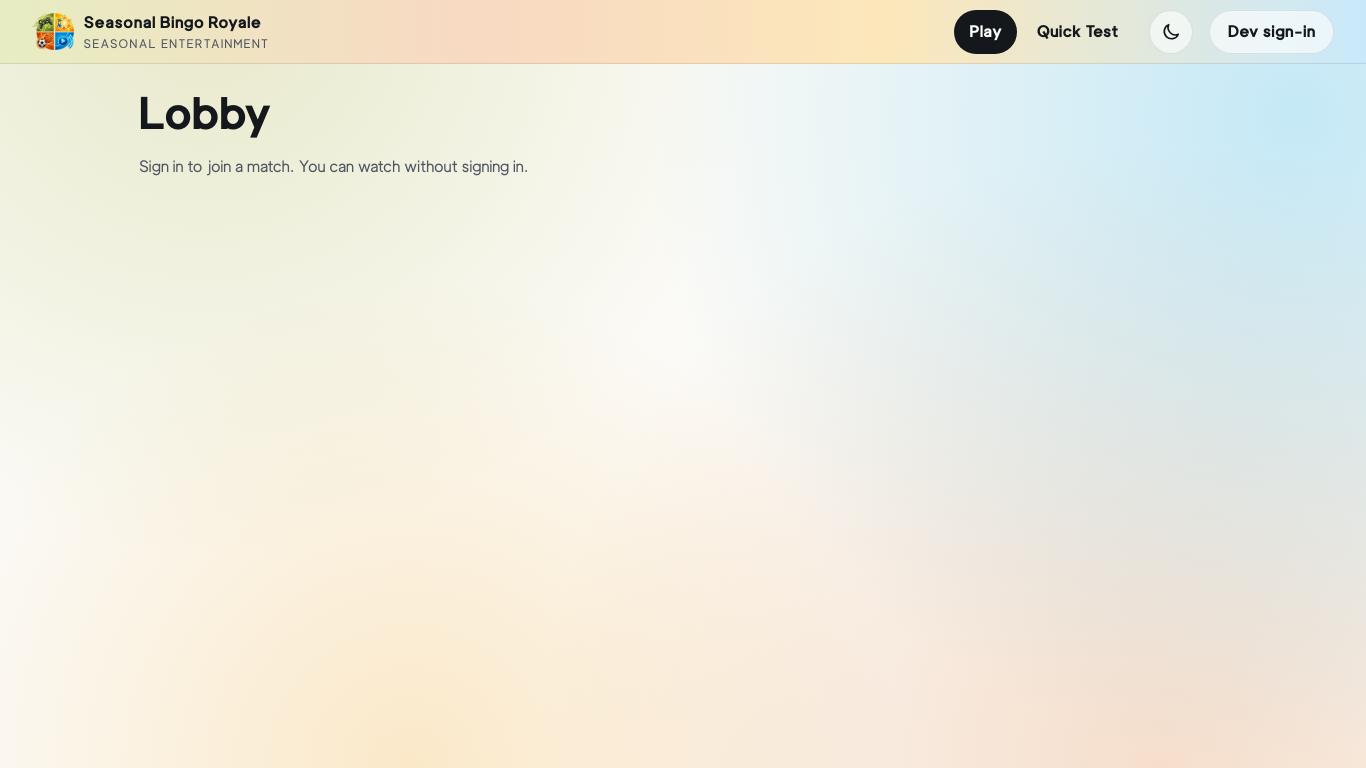
Test: the session after a quick sign-in › keeps the sign-in when the first session answer arrives after it
Click the button with test id "dev-menu" showing "Dev sign-in". click: (1272, 32)
box: [1209, 10, 1334, 54]
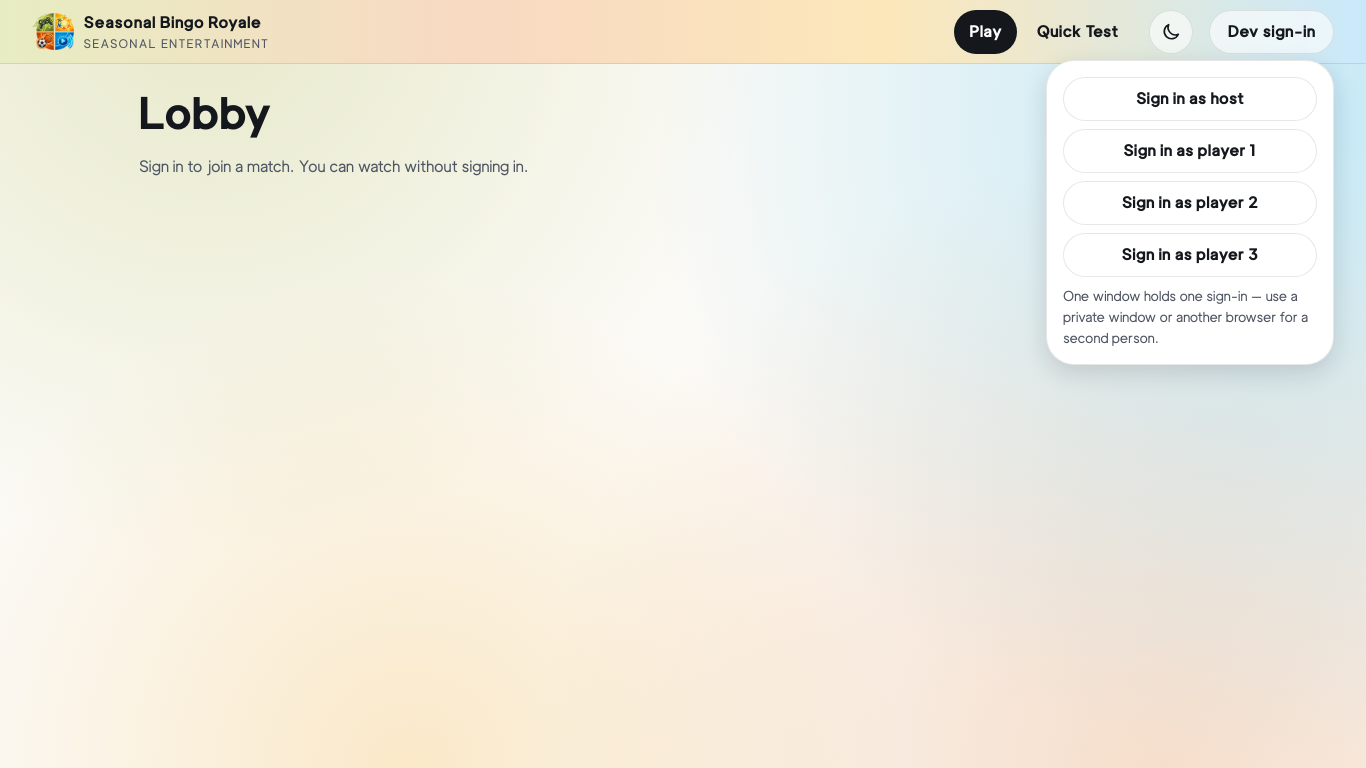
Click the menu item with test id "dev-sign-in-host". click: (1190, 99)
box: [1063, 77, 1317, 121]
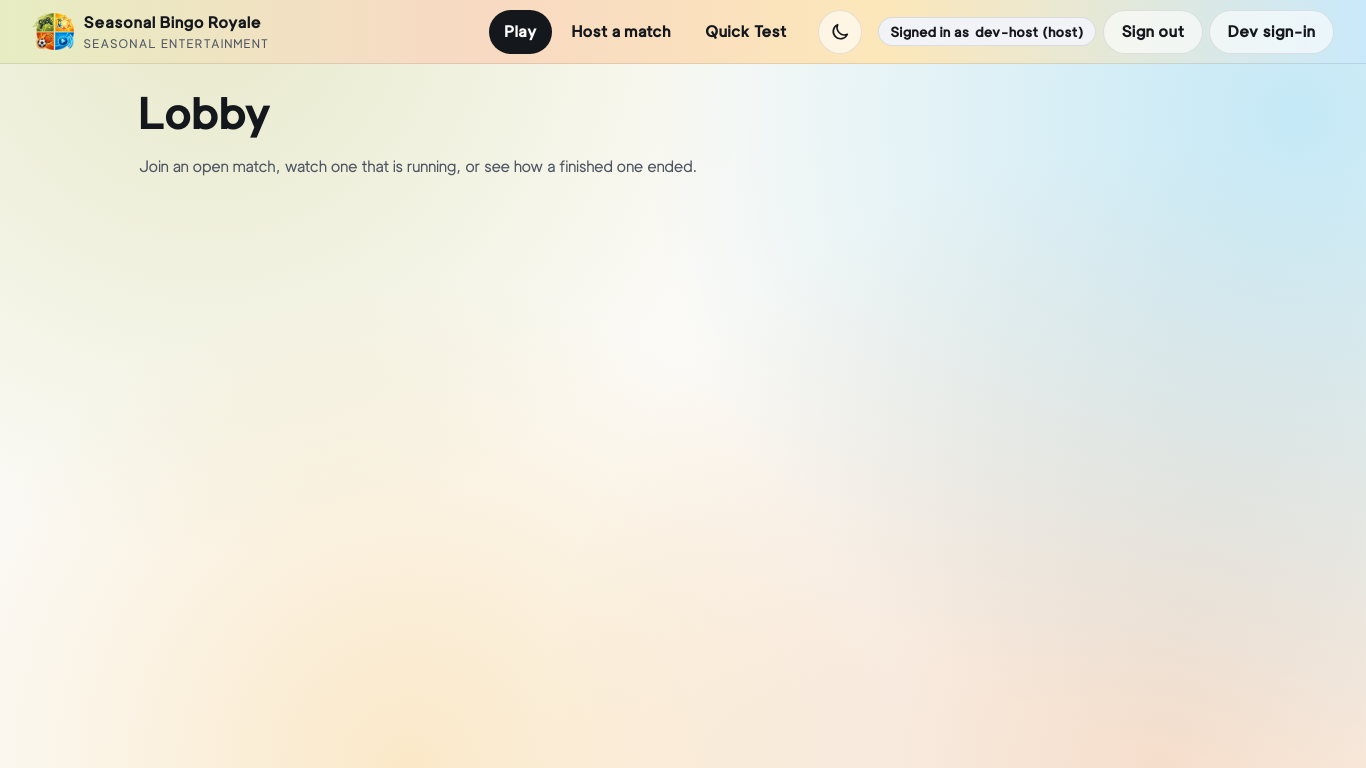
Now the element with test id "signed-in-as" reads "Signed in as dev-host (host)", box [878, 17, 1096, 46]
